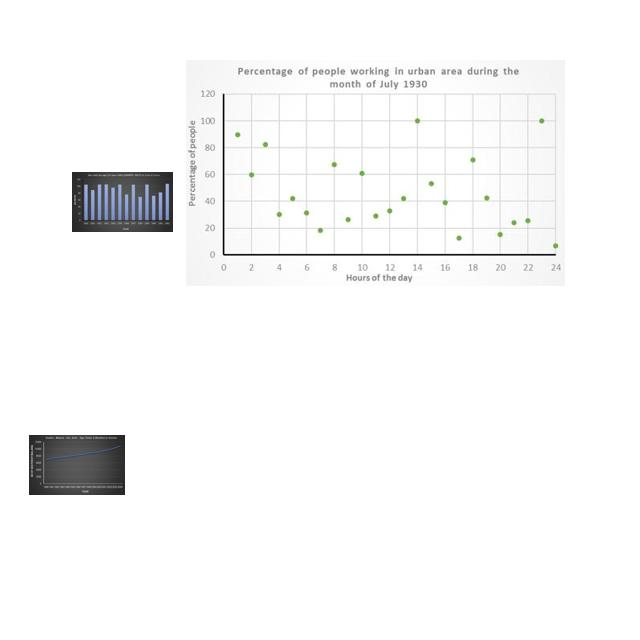Graph: (186, 60, 565, 286), (72, 172, 173, 232), (29, 435, 125, 495)
